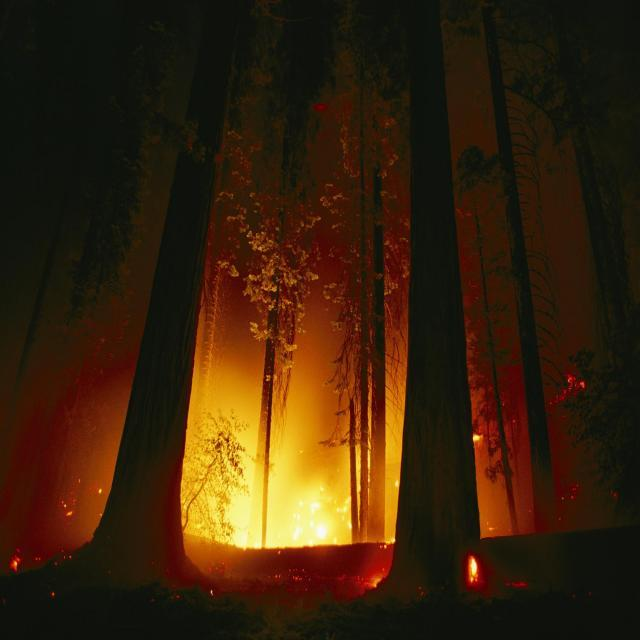Fire: (198, 438, 398, 546)
